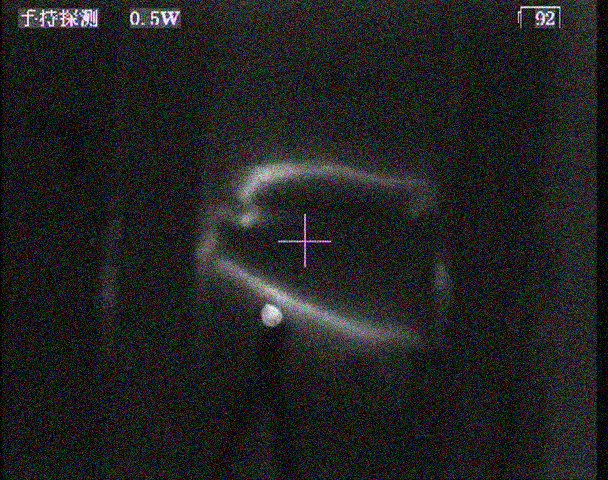my: (259, 300, 284, 326)
